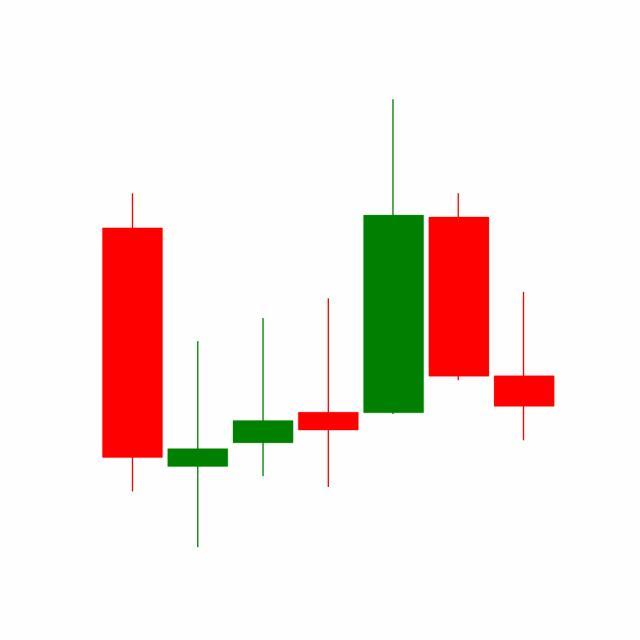Hikkake Pattern: (229, 99, 555, 492)
